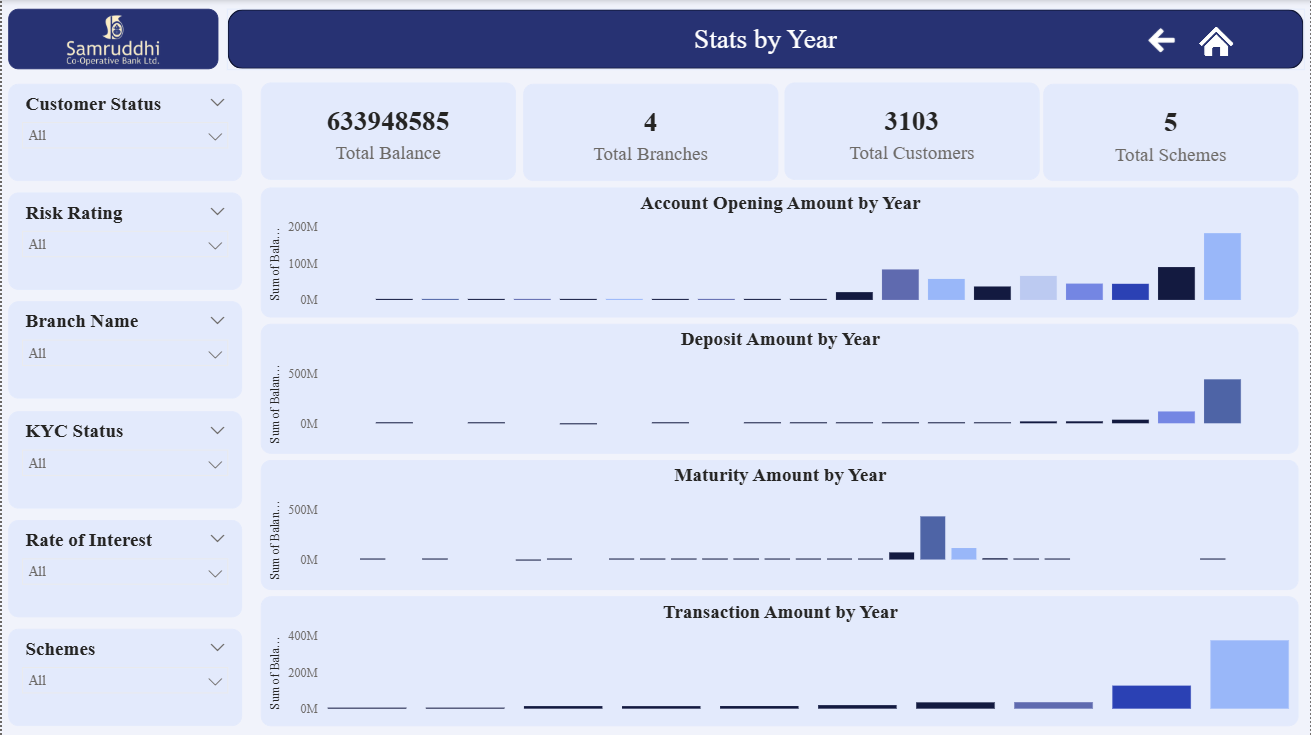

The page's visual inventory and layout, read from the dashboard file:
{"tool":"powerbi","page":{"name":"Stats by Year","canvas":[1280,720],"ordinal":6},"visuals":[{"type":"columnChart","title":"Account Opening Amount by Year","fields":{"Y":["Sum(TD DUMP.Balance As On 23-NOV-2023)"],"Category":["TD DUMP.Date of Opening.1.Variation.Date Hierarchy.Year"]},"box":[253.1,183.4,1015,127.2],"z":0},{"type":"columnChart","title":"Deposit Amount by Year","fields":{"Y":["Sum(TD DUMP.Balance As On 23-NOV-2023)"],"Category":["TD DUMP.Date of Deposite.Variation.Date Hierarchy.Year"]},"box":[253.1,316.7,1015,127.2],"z":1000},{"type":"columnChart","title":"Maturity Amount by Year","fields":{"Y":["Sum(TD DUMP.Balance As On 23-NOV-2023)"],"Category":["TD DUMP.Date of Maturity.Variation.Date Hierarchy.Year"]},"box":[253.1,450,1015,127.2],"z":2000},{"type":"columnChart","title":"Transaction Amount by Year","fields":{"Y":["Sum(TD DUMP.Balance As On 23-NOV-2023)"],"Category":["TD DUMP.Last Customer Transaction Date.Variation.Date Hierarchy.Year"]},"box":[253.1,583.3,1015,127.2],"z":3000},{"type":"card","fields":{"Values":["Sum(TD DUMP.Balance As On 23-NOV-2023)"]},"box":[253.1,80.4,249.5,95.4],"z":4000},{"type":"card","fields":{"Values":["Count(TD DUMP.Branch Code)"]},"box":[509.6,81.6,249.5,95],"z":5000},{"type":"card","fields":{"Values":["CountNonNull(TD DUMP.Customer ID)"]},"box":[765.2,80.3,249.5,95],"z":6000},{"type":"card","fields":{"Values":["Count(TD DUMP.Scheme code)"]},"box":[1018.6,81.6,249.5,95.4],"z":7000},{"type":"slicer","fields":{"Values":["TD DUMP.Risk Rating"]},"box":[6.1,188.6,228.7,95],"z":8000},{"type":"slicer","fields":{"Values":["TD DUMP.Whether Dormant/Active"]},"box":[6.1,81.9,228.7,95],"z":9000},{"type":"slicer","fields":{"Values":["TD DUMP.Branch Name"]},"box":[6.1,295.2,228.7,95],"z":10000},{"type":"slicer","fields":{"Values":["TD DUMP.KYC Status"]},"box":[6.1,401.8,228.7,95],"z":11000},{"type":"slicer","fields":{"Values":["TD DUMP.Rate of Interest"]},"box":[6.1,508.5,228.7,95],"z":12000},{"type":"slicer","fields":{"Values":["TD DUMP.Type of Term Deposit Scheme"]},"box":[6.1,615.1,228.7,95.4],"z":13000},{"type":"group","id":"g1","title":"Group 1","box":[1.2,0,215.2,77],"z":14000},{"type":"group","id":"g2","title":"Group 3","box":[219.8,0,1054.1,80.7],"z":15000},{"type":"shape","box":[5.5,8.3,205.9,59],"z":19000,"group":"g1"},{"type":"image","box":[1.2,0,215.2,77],"z":20000,"group":"g1"},{"type":"shape","box":[219.8,8.6,1054.1,59.9],"z":23000,"group":"g2"},{"type":"image","box":[1147.9,0,79.5,80.7],"z":25000,"group":"g2"},{"type":"image","box":[1094.1,0,79.5,79.5],"z":26000,"group":"g2"}]}

Visuals, with their boxes in screenshot pixels (x1, y1, x2, y2), scaled from the page's 1280x720 canvas onto the 1311x735 screenshot:
"Account Opening Amount by Year" columnChart: x1=259, y1=187, x2=1299, y2=317
"Deposit Amount by Year" columnChart: x1=259, y1=323, x2=1299, y2=453
"Maturity Amount by Year" columnChart: x1=259, y1=459, x2=1299, y2=589
"Transaction Amount by Year" columnChart: x1=259, y1=595, x2=1299, y2=725
card - Sum(TD DUMP.Balance As On 23-NOV-2023): x1=259, y1=82, x2=515, y2=179
card - Count(TD DUMP.Branch Code): x1=522, y1=83, x2=777, y2=180
card - CountNonNull(TD DUMP.Customer ID): x1=784, y1=82, x2=1039, y2=179
card - Count(TD DUMP.Scheme code): x1=1043, y1=83, x2=1299, y2=181
slicer - TD DUMP.Risk Rating: x1=6, y1=193, x2=240, y2=290
slicer - TD DUMP.Whether Dormant/Active: x1=6, y1=84, x2=240, y2=181
slicer - TD DUMP.Branch Name: x1=6, y1=301, x2=240, y2=398
slicer - TD DUMP.KYC Status: x1=6, y1=410, x2=240, y2=507
slicer - TD DUMP.Rate of Interest: x1=6, y1=519, x2=240, y2=616
slicer - TD DUMP.Type of Term Deposit Scheme: x1=6, y1=628, x2=240, y2=725
"Group 1" group: x1=1, y1=0, x2=222, y2=79
"Group 3" group: x1=225, y1=0, x2=1305, y2=82
shape: x1=6, y1=8, x2=217, y2=69
image: x1=1, y1=0, x2=222, y2=79
shape: x1=225, y1=9, x2=1305, y2=70
image: x1=1176, y1=0, x2=1257, y2=82
image: x1=1121, y1=0, x2=1202, y2=81
